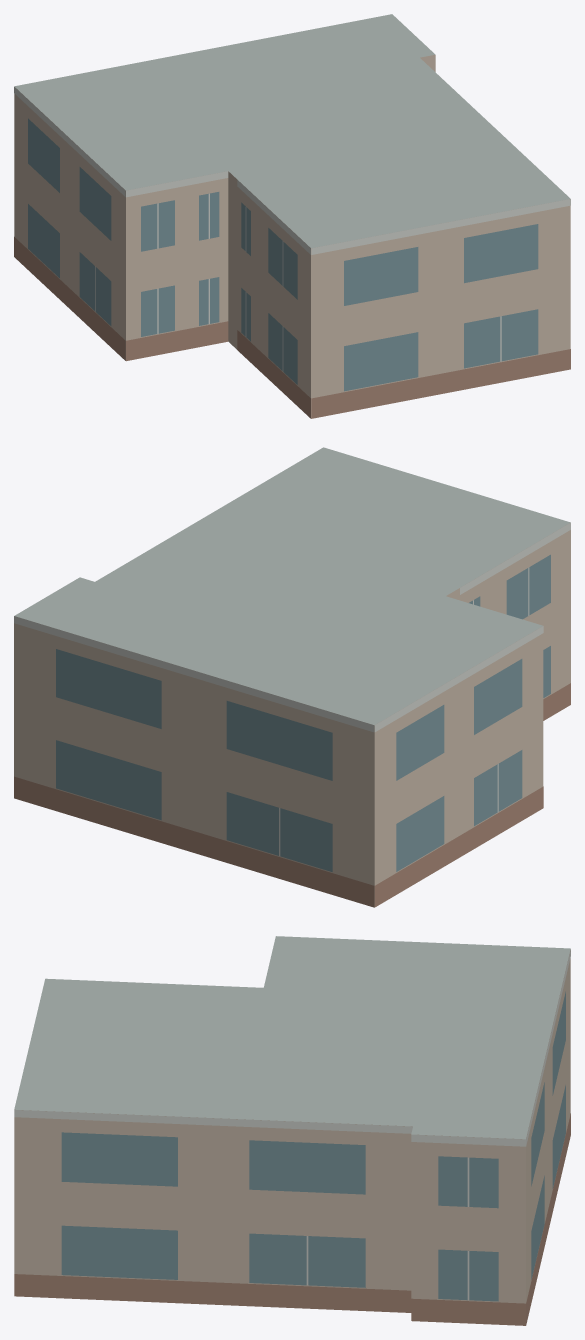
File: survey-upis-32914639.glb
3 renders of one model, top to bottom at view 1: azimuth 30°, elevation 25°; view 2: azimuth 150°, elevation 25°; view 3: azimuth 270°, elevation 25°, orthographic. The views are drawn at different scales.
Parts seen in each view (by area): view 1: survey-upis-32914639.tmp; view 2: survey-upis-32914639.tmp; view 3: survey-upis-32914639.tmp.
Boxes of the visible parts, x1,y1,x2,y2 form: survey-upis-32914639.tmp: [14, 14, 570, 418]; survey-upis-32914639.tmp: [14, 447, 570, 907]; survey-upis-32914639.tmp: [14, 936, 570, 1325].
Bounding box in the file's own units: 14.26 × 6.1 × 16.51.
